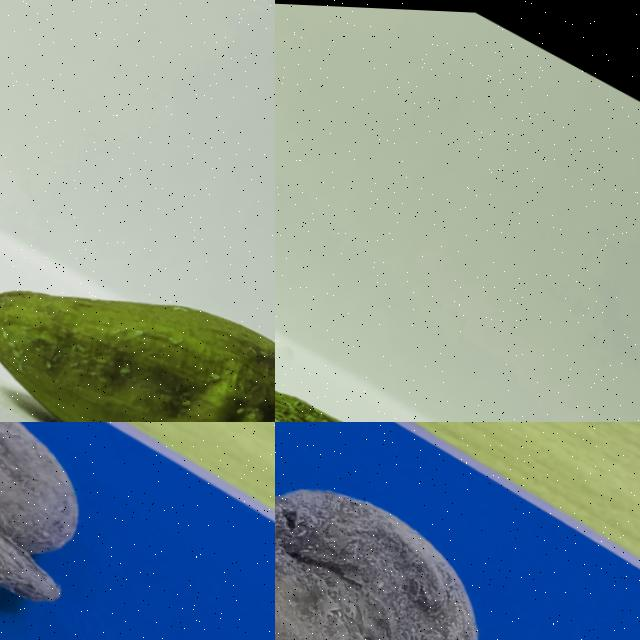Agglomerated_cocoabeans: (275, 422, 599, 639), (0, 422, 175, 639)
Fine_cocoabeans: (0, 176, 274, 421)
Flat_cocoabeans: (275, 301, 559, 421)
